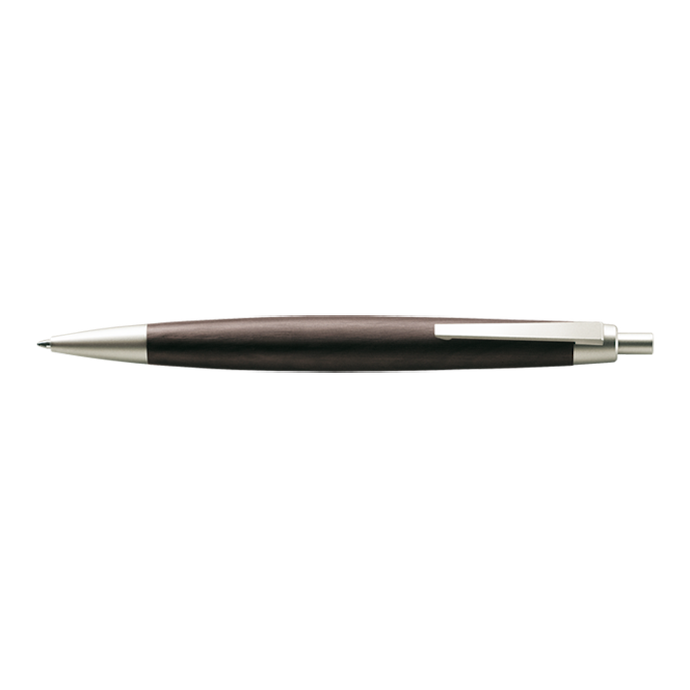pen: (17, 293, 689, 409)
